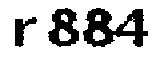4: (116, 6, 150, 49)
8: (46, 5, 79, 51), (84, 6, 115, 49)
r: (11, 15, 39, 48)
